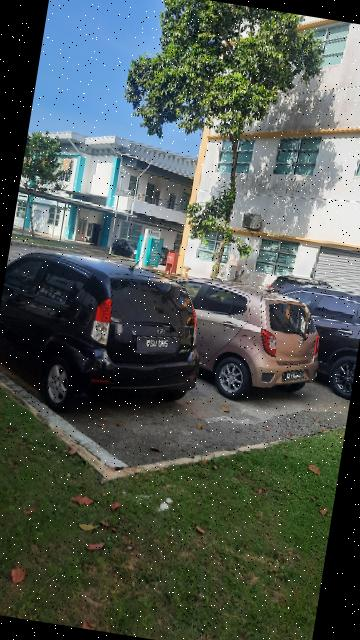License_Plate: (133, 331, 187, 359), (282, 368, 307, 385)
car: (1, 239, 213, 430), (184, 266, 360, 416)
